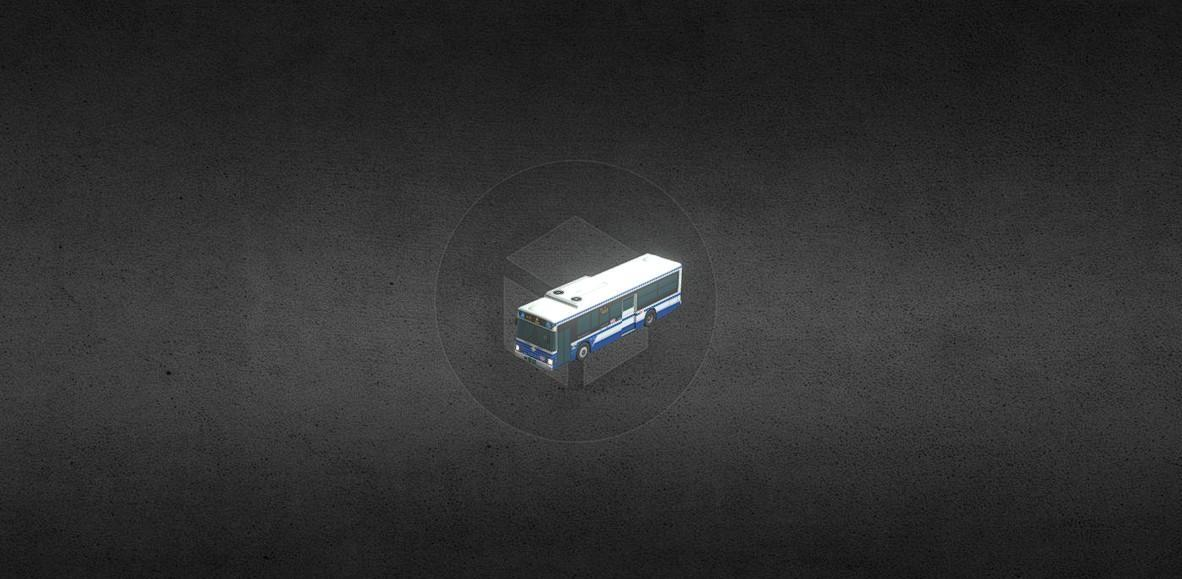Bus: (513, 251, 683, 371)
